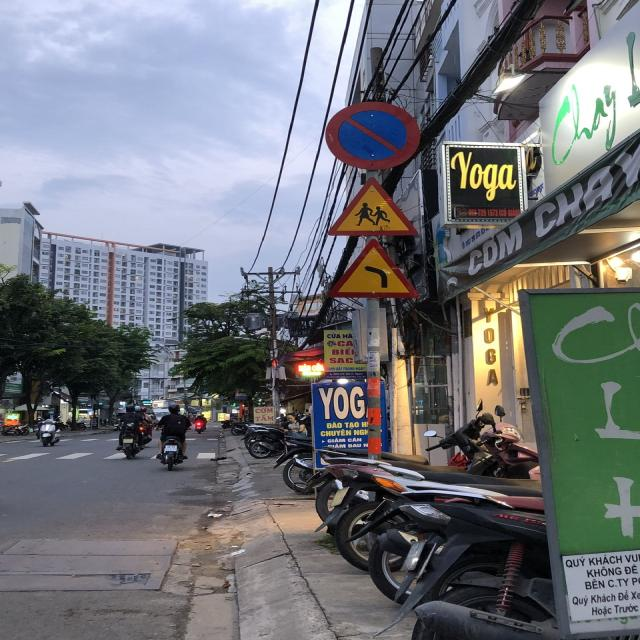Bien bao cam do xe: (316, 95, 428, 172)
Bien bao cho ngoat nguy hiem: (322, 235, 422, 306)
Bien bao tre em: (318, 176, 424, 242)
